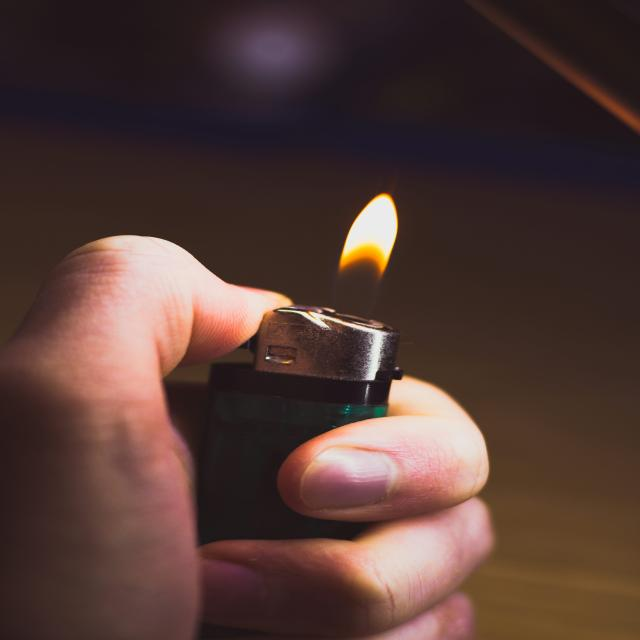fire: (339, 193, 399, 280)
